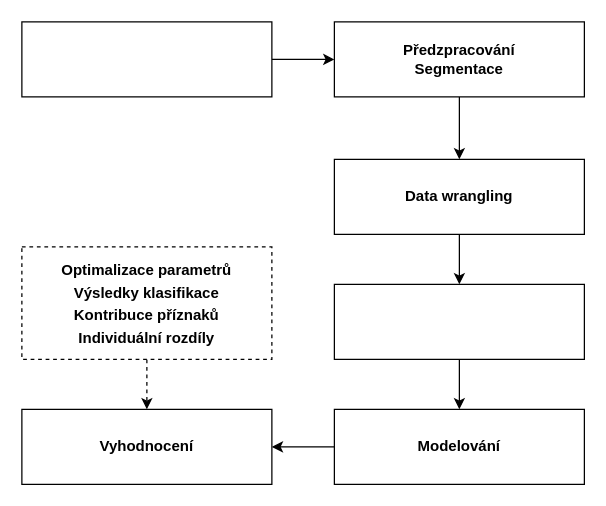
The diagram is 606 pixels wide and 506 high, and some of its shapes have lost their labels. The shapes that lost their labels are listed below. From the top down, each one's box as (x1, y1, x2, y2) in pixels, then its label:
(21, 21, 272, 97): Surová data
(333, 283, 584, 359): Feature engineering
